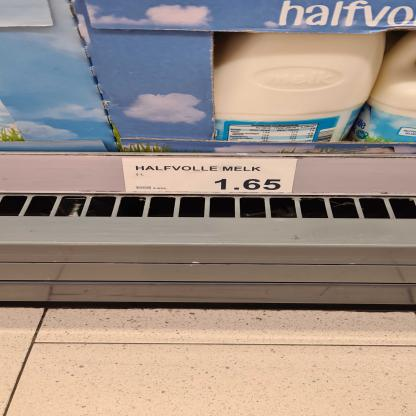prtg: (122, 158, 298, 194)
